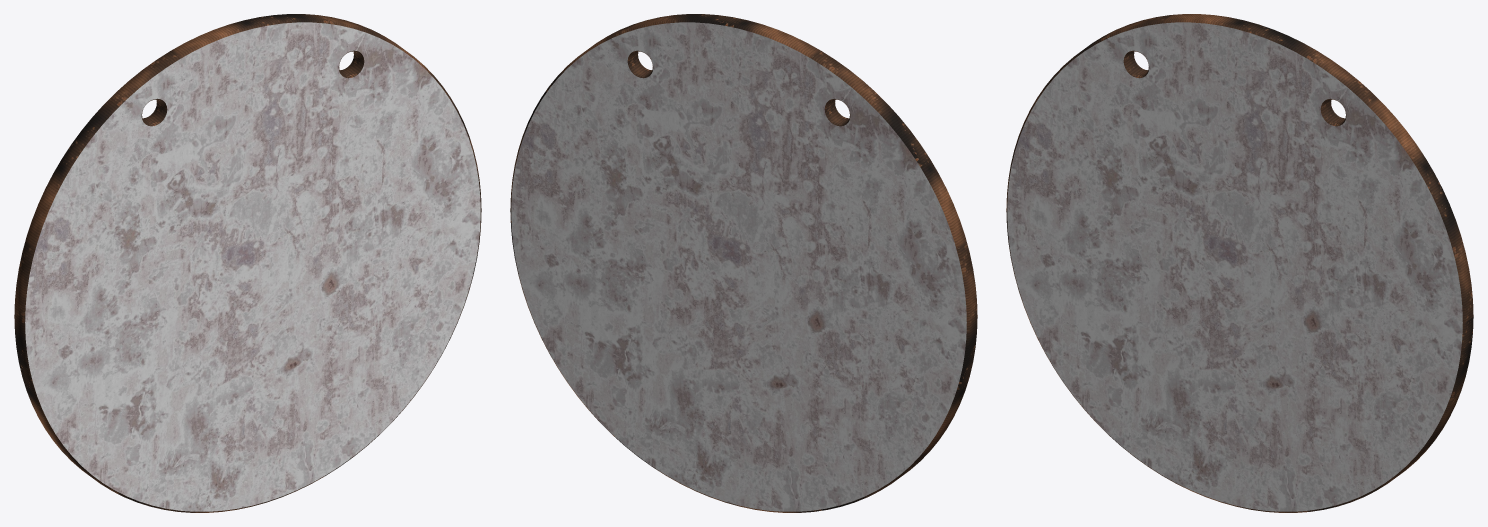
The model's file is plate_10.glb.
The picture shows the model from 3 angles, left to right: view 1: azimuth 30°, elevation 25°; view 2: azimuth 150°, elevation 25°; view 3: azimuth 330°, elevation 25°; orthographic projection.
Visible parts, largest first — view 1: plate_10; view 2: plate_10; view 3: plate_10.
Boxes of the visible parts, x1=… form: plate_10: x1=14, y1=14, x2=481, y2=512; plate_10: x1=510, y1=14, x2=977, y2=512; plate_10: x1=1006, y1=14, x2=1473, y2=512.
Bounding box in the file's own units: 0.254 × 0.254 × 0.00953.
3 materials, 3 textured.
